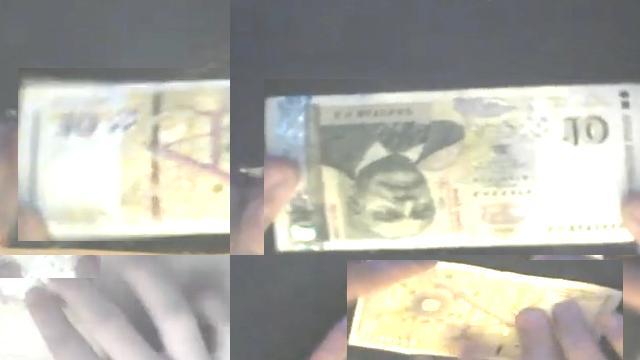10leva: (264, 79, 640, 255), (18, 77, 230, 241), (347, 260, 623, 360), (348, 260, 623, 360)
